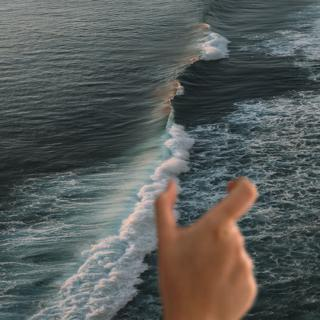HATE: (151, 171, 269, 311)
